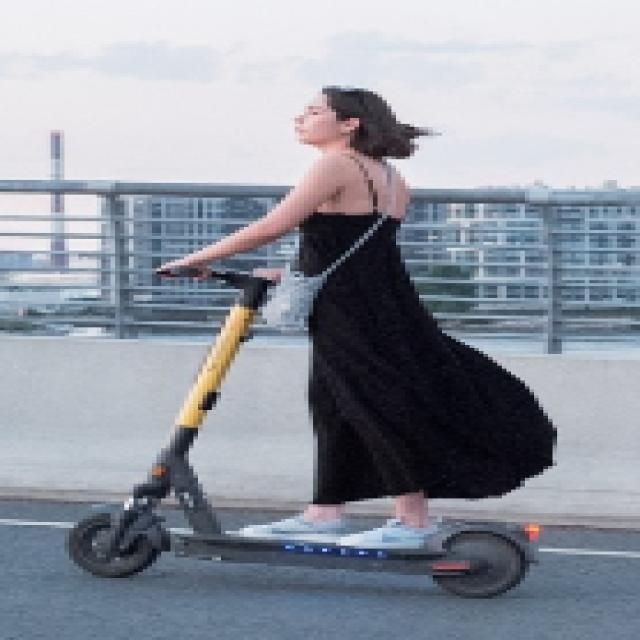non-helmet: (40, 70, 592, 616)
